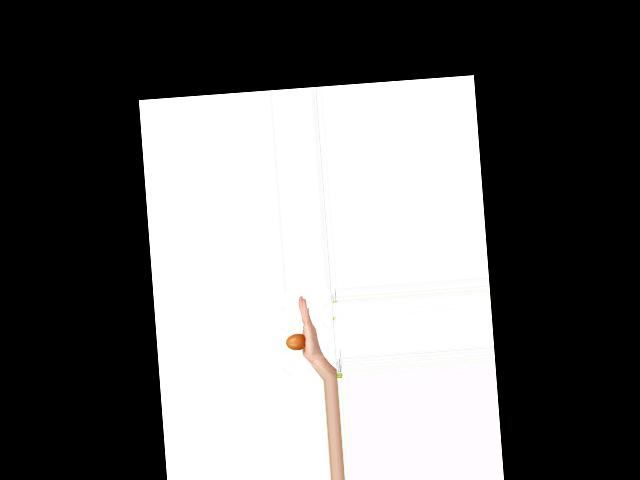egg: (286, 332, 306, 350)
